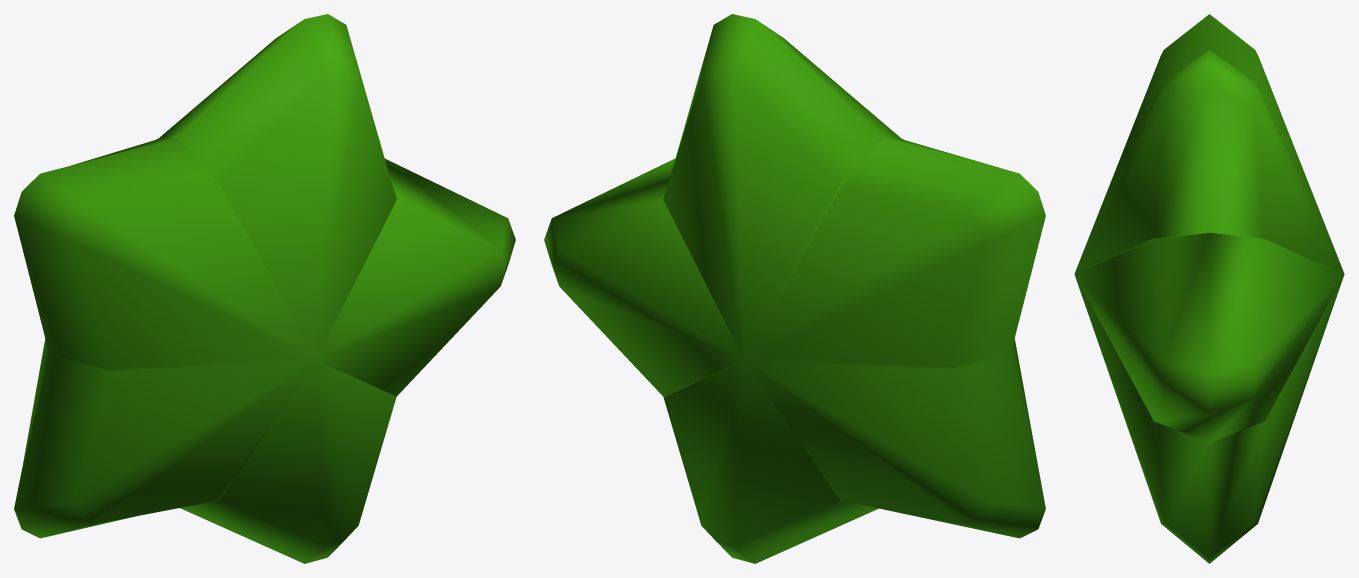
The model's file is Star_V3_0.fbx.
3 views of the same model, side by side, from view 1: azimuth 30°, elevation 25°; view 2: azimuth 150°, elevation 25°; view 3: azimuth 270°, elevation 25° (orthographic). The views are drawn at different scales.
Parts seen in each view (by area): view 1: Star_V3_0; view 2: Star_V3_0; view 3: Star_V3_0.
Boxes of the visible parts, x1,y1,x2,y2 form: Star_V3_0: (14,14,515,563); Star_V3_0: (544,14,1045,563); Star_V3_0: (1074,14,1344,563).
Size of the model in its own units: 0.4434 by 0.46 by 0.2235.
